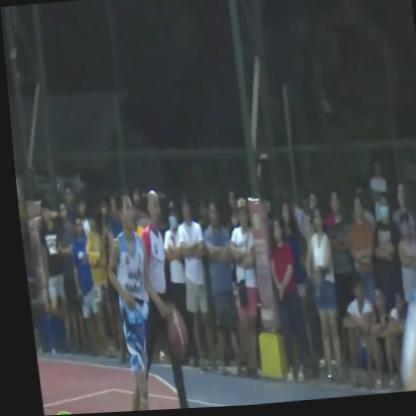basketball: (155, 310, 186, 368)
